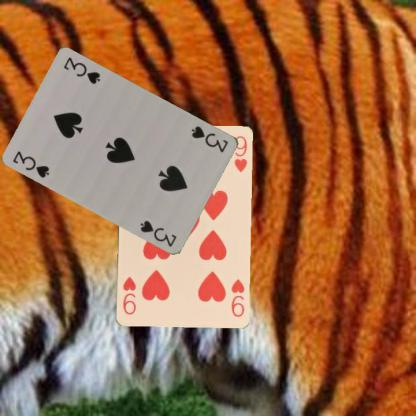3s: (189, 123, 230, 154), (10, 148, 51, 179)
9h: (228, 276, 246, 318)
